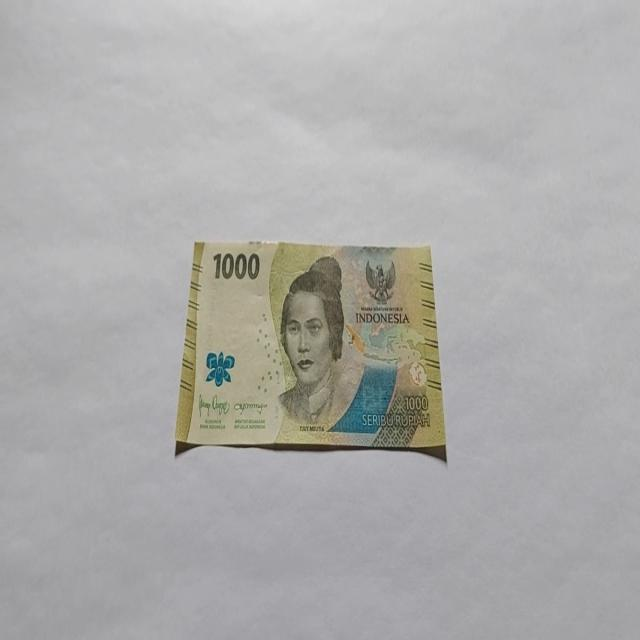seribu rupiah kertas: (174, 238, 446, 461)
